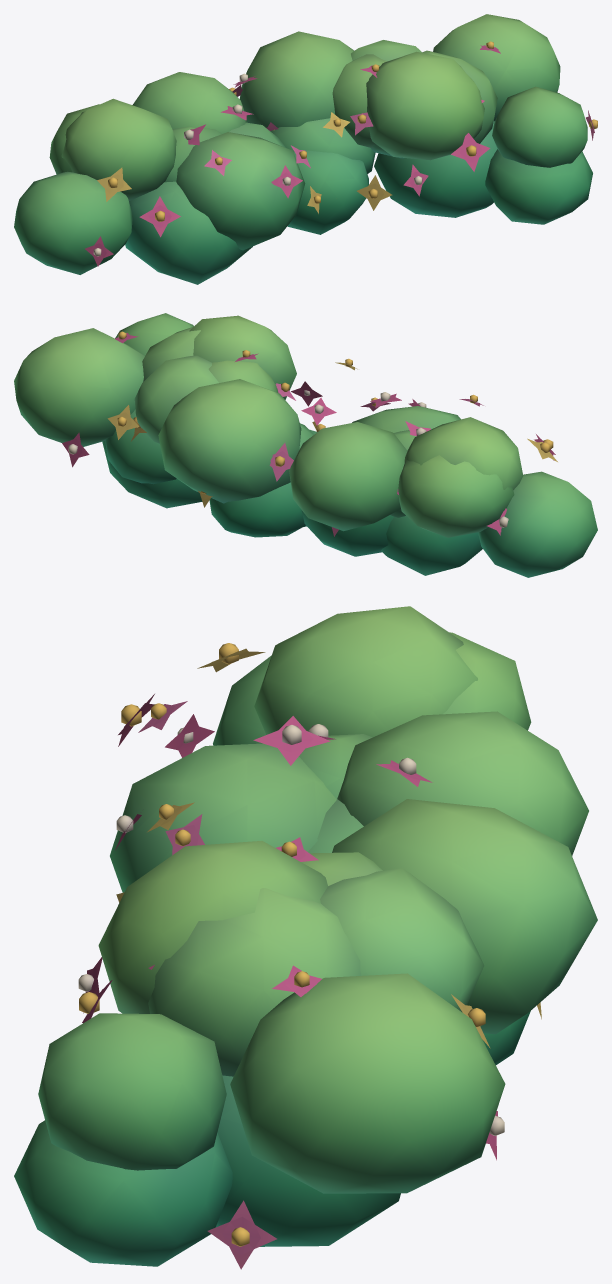
File: verdant_bush_flower_hedge.glb
3 renders of one model, top to bottom at view 1: azimuth 30°, elevation 25°; view 2: azimuth 150°, elevation 25°; view 3: azimuth 270°, elevation 25°, orthographic. The views are drawn at different scales.
Visible parts, largest first — view 1: verdant_bush_flower_hedge; view 2: verdant_bush_flower_hedge; view 3: verdant_bush_flower_hedge.
Boxes of the visible parts, x1,y1,x2,y2 form: verdant_bush_flower_hedge: (14,14,597,284); verdant_bush_flower_hedge: (14,313,597,577); verdant_bush_flower_hedge: (14,606,597,1269).
Size of the model in its own units: 4.33 by 1.33 by 2.01.
